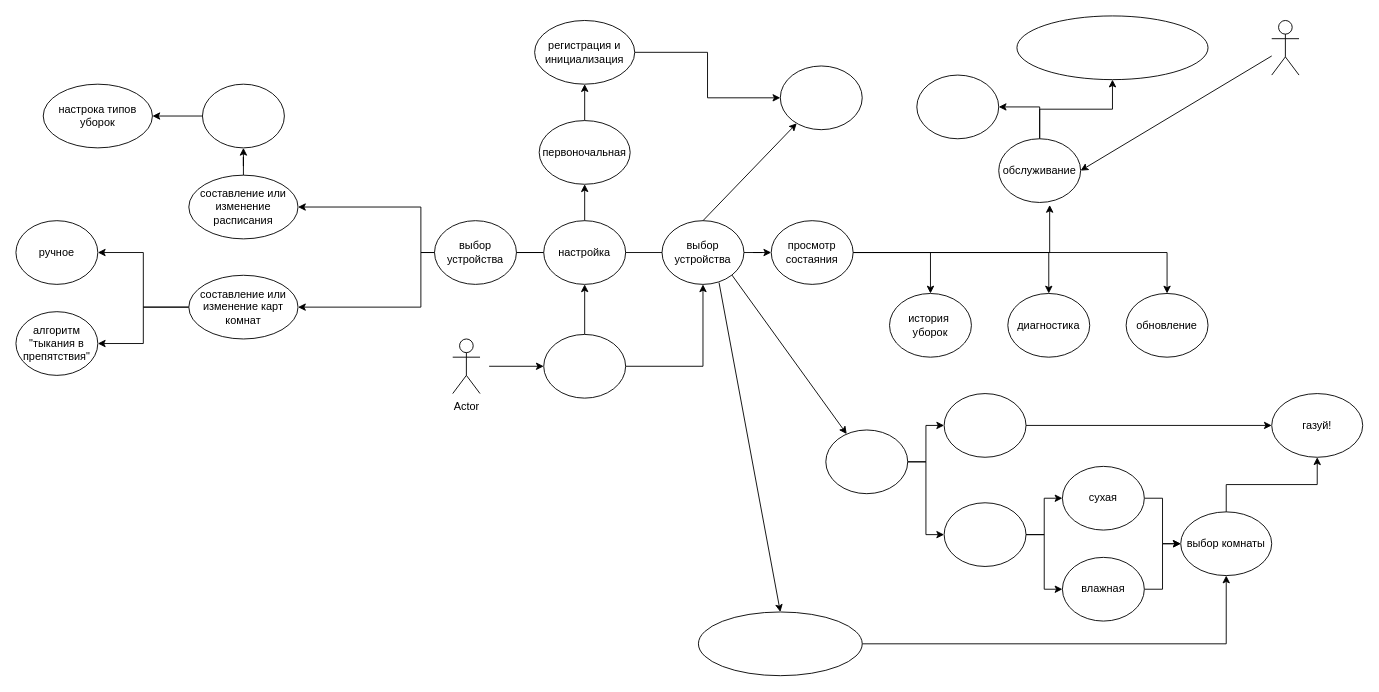
The diagram is 1379 pixels wide and 692 high, and some of its shapes have lost their labels. The shapes that lost their labels are listed below. From the top down, each one's centre as x and y in pixels, then its label:
pixel 1112 47: чистка\заправка\зарядка\ремонт
pixel 1285 47: robot
pixel 243 115: выбор комнат
pixel 820 97: добавление устройства
pixel 957 106: замена расходников
pixel 584 366: подключение
pixel 984 425: штатное по расписанию
pixel 866 461: уборка
pixel 984 534: срочная
pixel 780 643: супер функция!!! "покатай кота"
